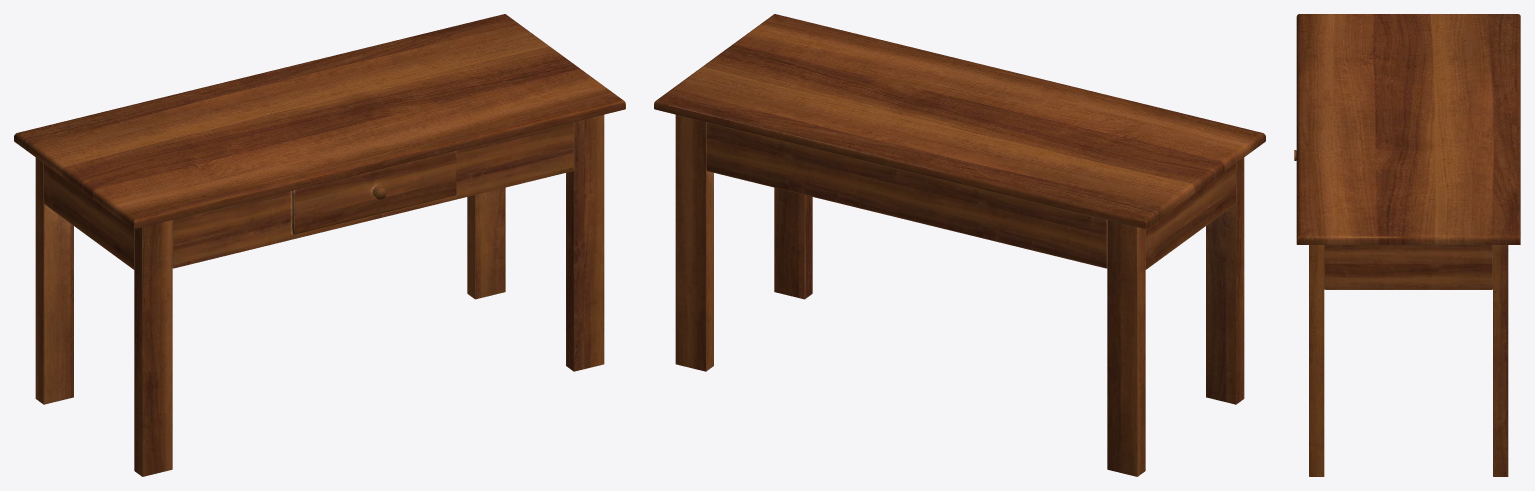
Rendered from desktab-transformed.glb.
3 views of the same model, side by side, from view 1: azimuth 30°, elevation 25°; view 2: azimuth 150°, elevation 25°; view 3: azimuth 270°, elevation 25° (orthographic). The views are drawn at different scales.
Visible parts, largest first — view 1: GenericClassicTable001; view 2: GenericClassicTable001; view 3: GenericClassicTable001.
Boxes of the visible parts, box(x1,y1,x2,y2) form: GenericClassicTable001: box(14, 14, 625, 476); GenericClassicTable001: box(654, 14, 1265, 476); GenericClassicTable001: box(1294, 14, 1520, 476).
Size of the model in its own units: 1.12 by 0.5795 by 0.4803.
1 material, 1 textured.
